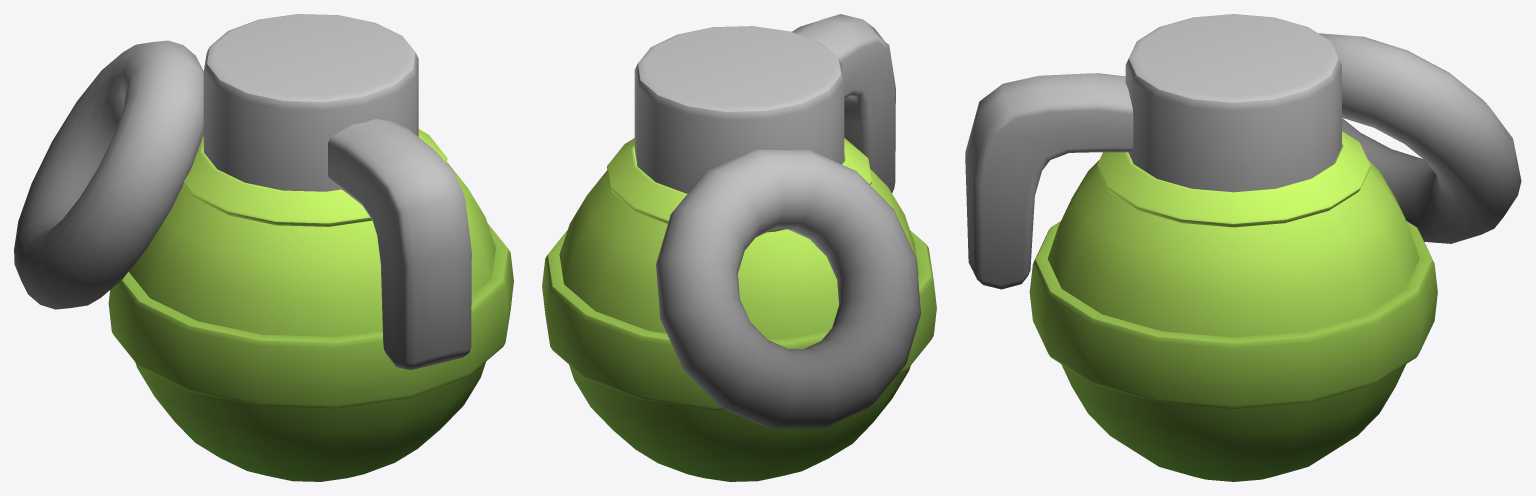
File: Bomb.fbx
The picture shows the model from 3 angles, left to right: view 1: azimuth 30°, elevation 25°; view 2: azimuth 150°, elevation 25°; view 3: azimuth 270°, elevation 25°; orthographic projection. The views are drawn at different scales.
Parts seen in each view (by area): view 1: Bomb; view 2: Bomb; view 3: Bomb.
Boxes of the visible parts, x1,y1,x2,y2 form: Bomb: (14, 14, 513, 481); Bomb: (542, 14, 936, 481); Bomb: (965, 14, 1521, 481).
Bounding box in the file's own units: 54.93 × 53.84 × 66.37.
Materials: 1 (1 with a texture image).
